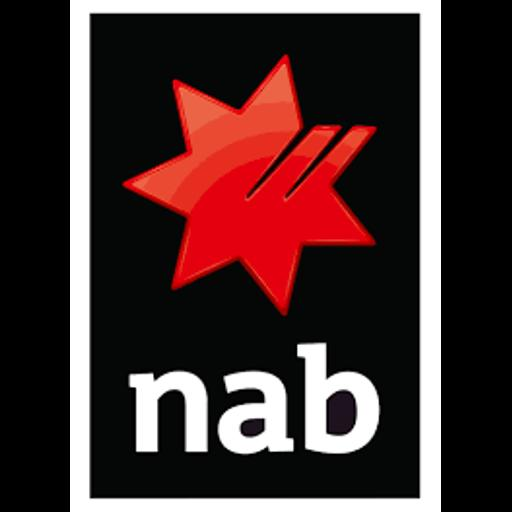National Australia Bank Limited: (70, 0, 441, 512)
